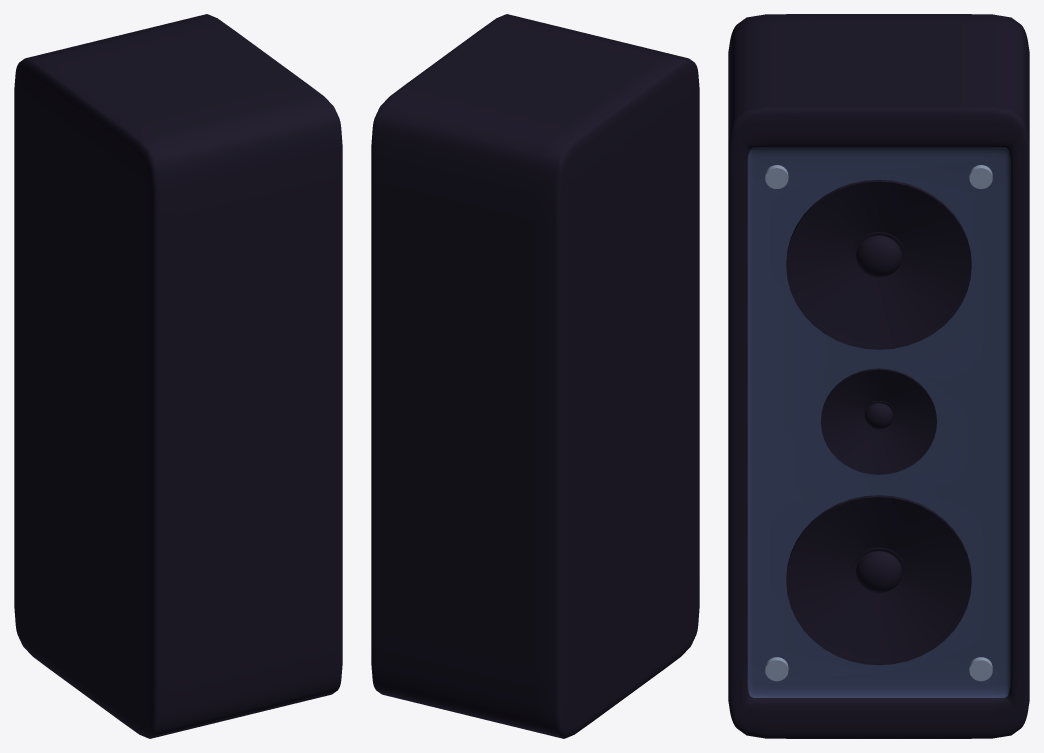
The model's file is glosnik_wieza.fbx.
3 renders of one model, left to right at view 1: azimuth 30°, elevation 25°; view 2: azimuth 150°, elevation 25°; view 3: azimuth 270°, elevation 25°, orthographic. The views are drawn at different scales.
Visible parts, largest first — view 1: Cube; view 2: Cube; view 3: Cube.
Part boxes in pixels (bbox=[...]): Cube: bbox=[14, 14, 342, 738]; Cube: bbox=[371, 14, 699, 738]; Cube: bbox=[728, 14, 1029, 738].
Bounding box in the file's own units: 100 × 300 × 130.
